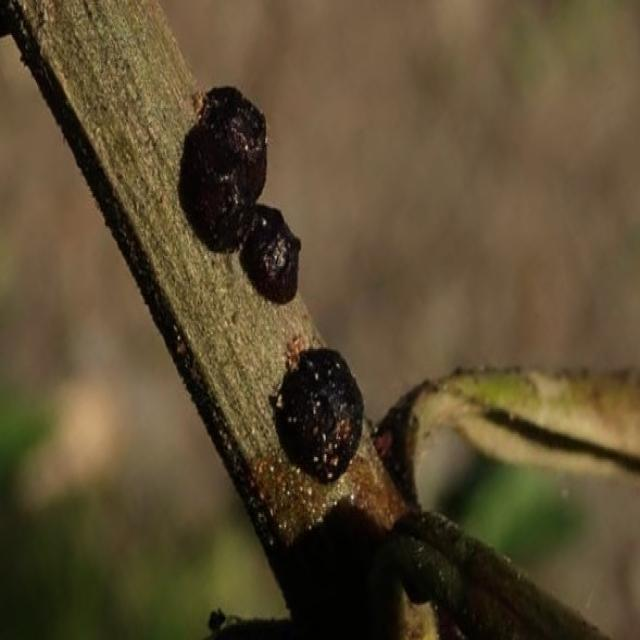Black Scale: (180, 86, 300, 304), (269, 347, 363, 482)
